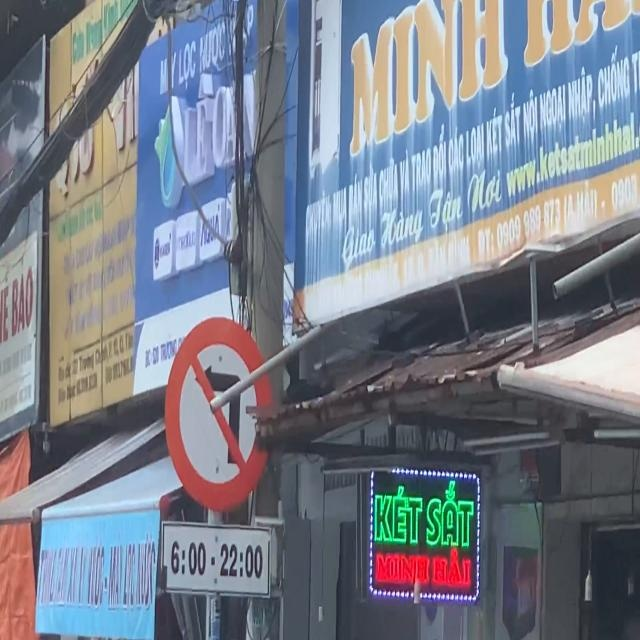bien_cam: (165, 316, 272, 511)
